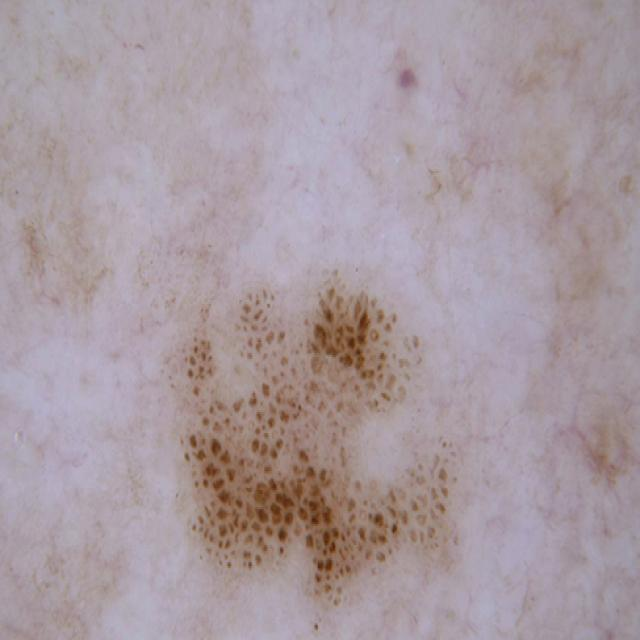Keratosis: (141, 228, 502, 640)
